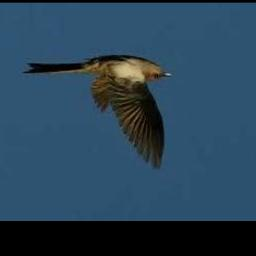Cuckoo: (22, 56, 172, 171)
